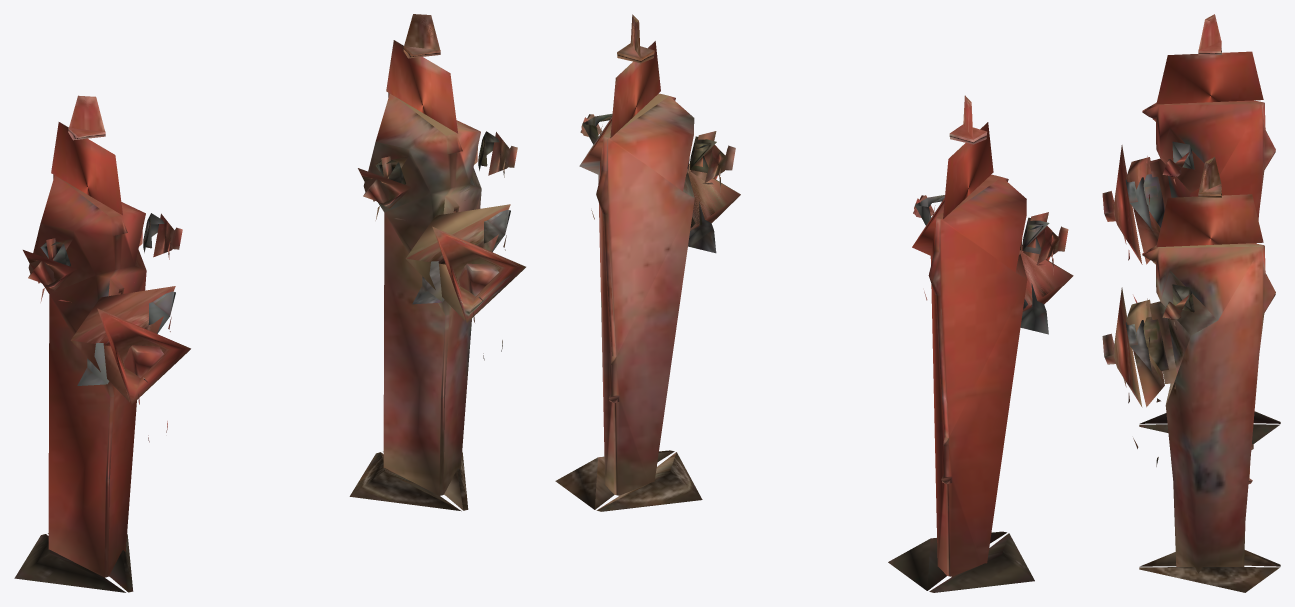
File: hydrant.glb
The picture shows the model from 3 angles, left to right: view 1: azimuth 30°, elevation 25°; view 2: azimuth 150°, elevation 25°; view 3: azimuth 270°, elevation 25°; orthographic projection. The views are drawn at different scales.
Visible parts, largest first — view 1: fire_hydrant, fire_hydrant_aged; view 2: fire_hydrant_aged, fire_hydrant; view 3: fire_hydrant_aged, fire_hydrant.
Part boxes in pixels (bbox=[...]): fire_hydrant: bbox=[14, 95, 190, 592]; fire_hydrant_aged: bbox=[349, 14, 525, 511]; fire_hydrant_aged: bbox=[555, 14, 740, 511]; fire_hydrant: bbox=[888, 95, 1073, 592]; fire_hydrant_aged: bbox=[1102, 157, 1280, 592]; fire_hydrant: bbox=[1102, 14, 1280, 443].
Bounding box in the file's own units: 0.8728 × 0.7992 × 0.3163.
2 materials, 2 textured.
